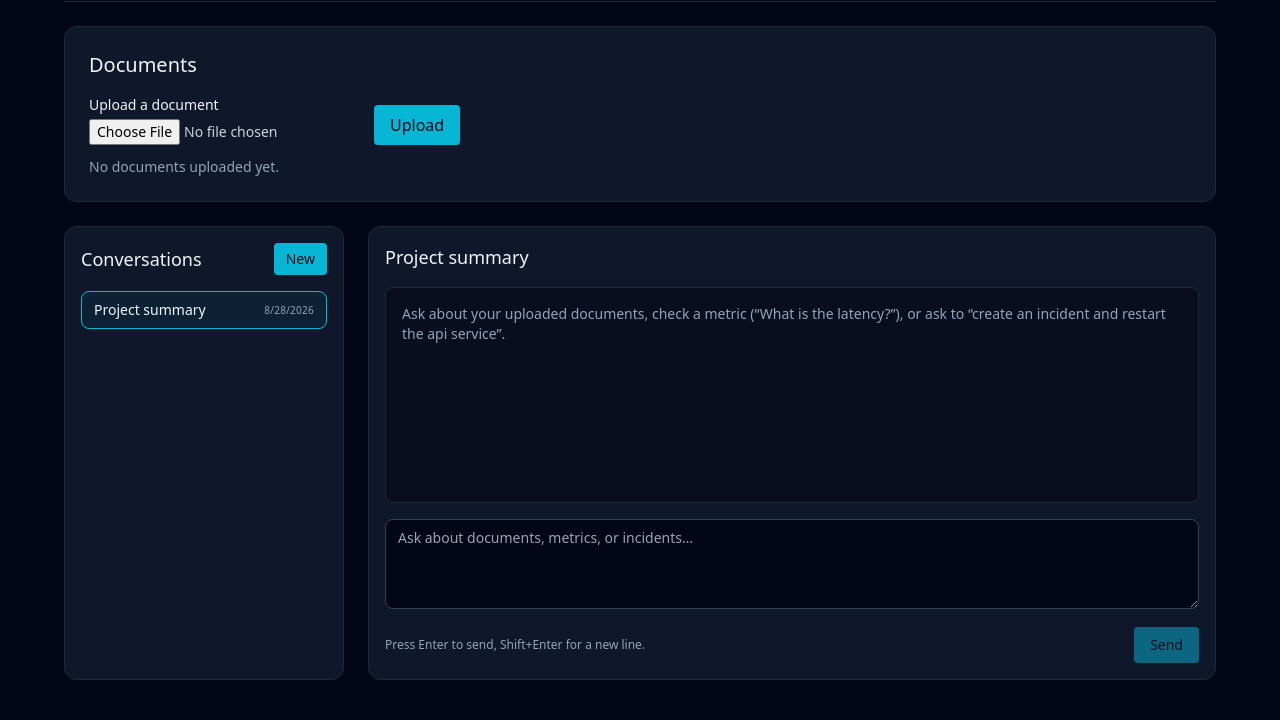
Test: HomePage › shows the no-context fallback and no sources for weak retrieval
(page scrolled)
Check: the heading "Project summary" is shown, box [385,245,529,269]
Type "how are u" into the text box named "Chat message" at [792, 564], box [385,519,1199,609]
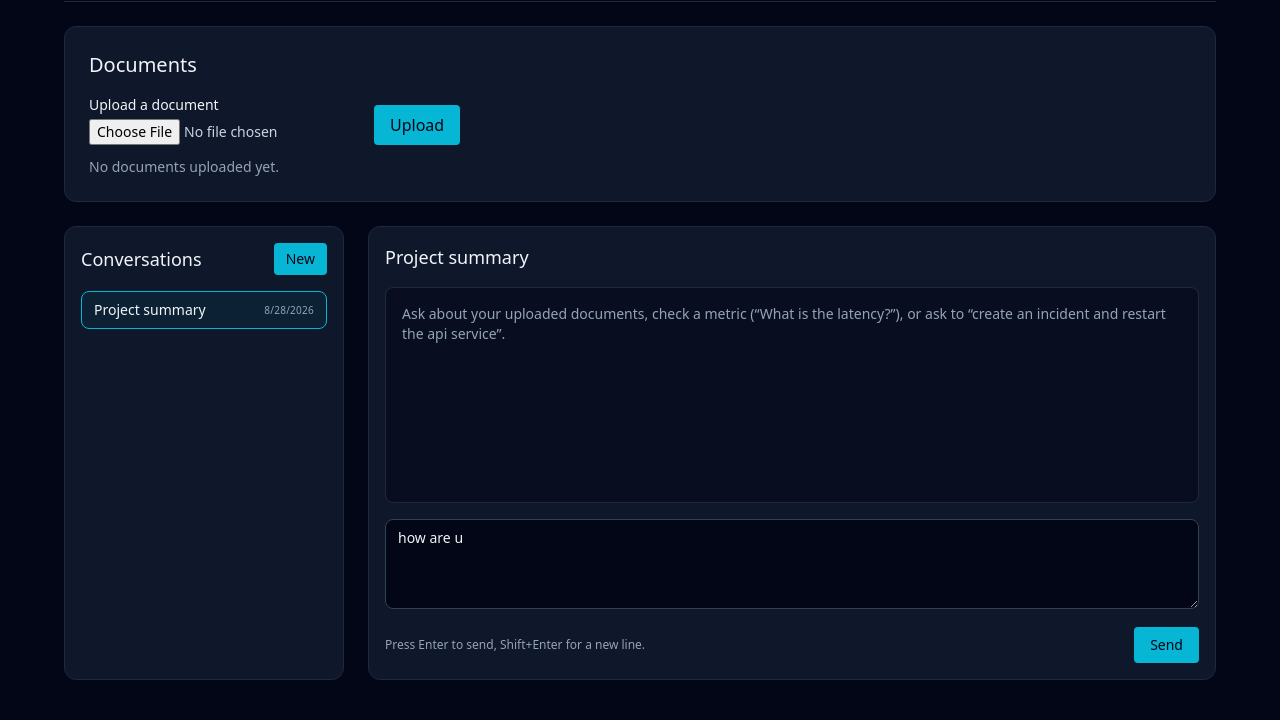
Click the button "Send" at [1167, 645], box [1134,627,1199,663]
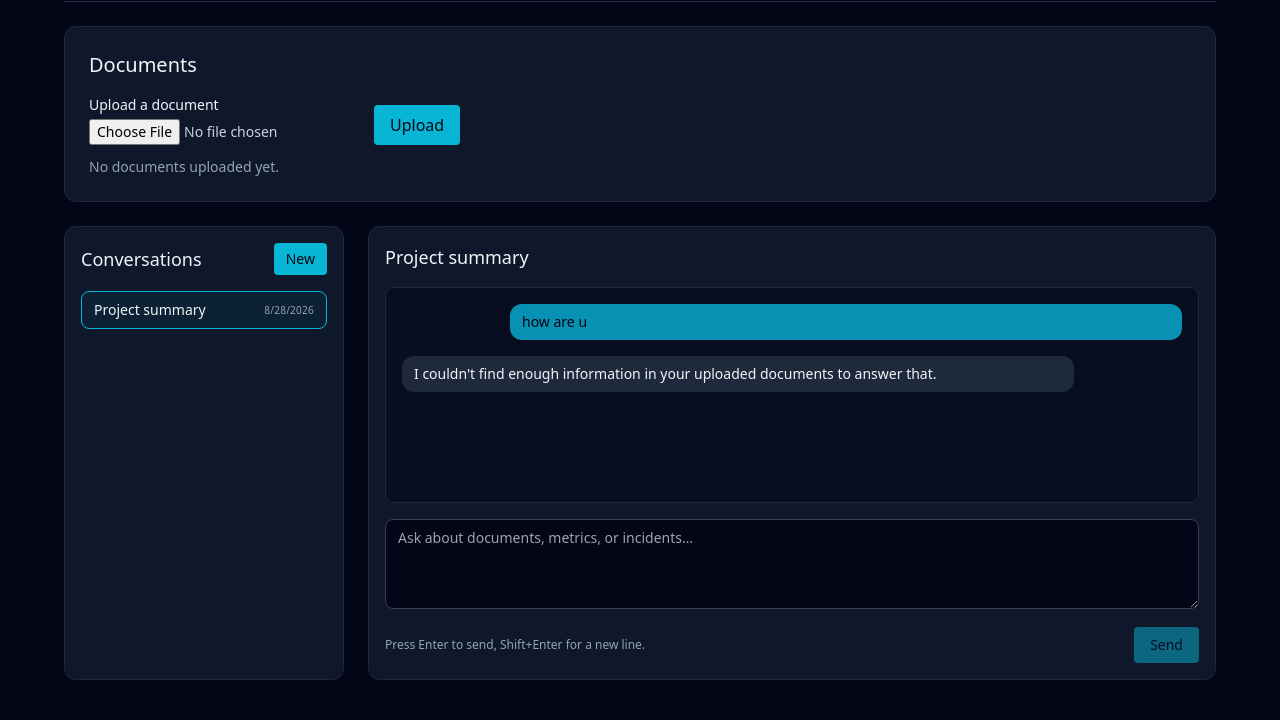
Check: the text "I couldn't find enough information" is shown, box [414,364,936,383]
